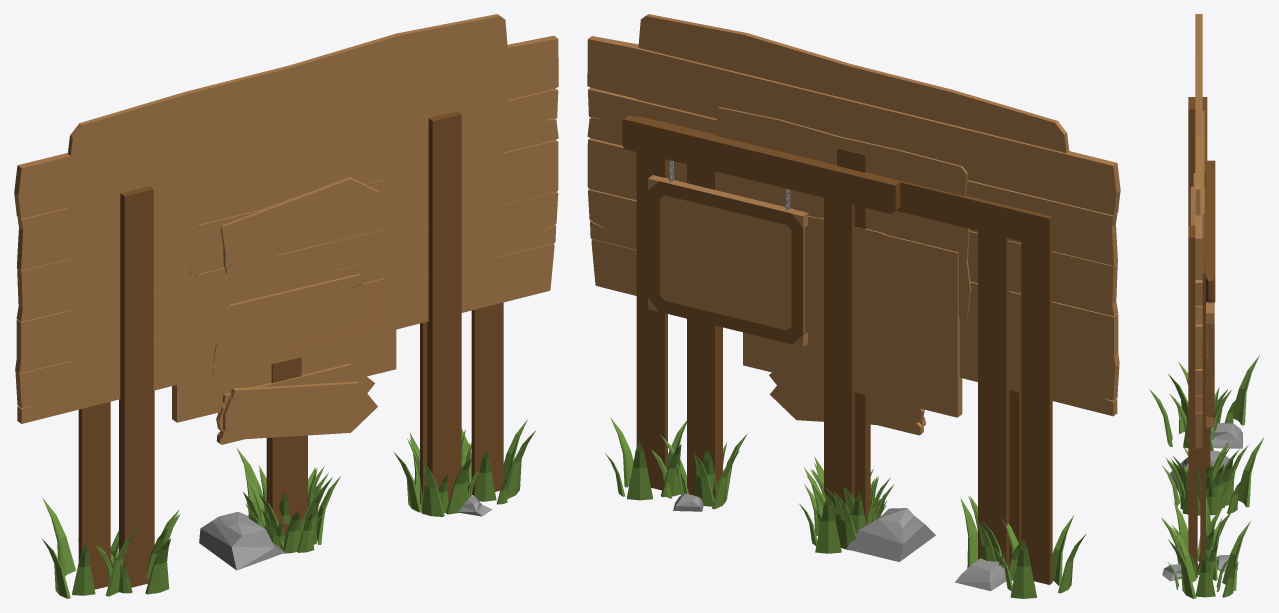
Rendered from signs.glb.
3 renders of one model, left to right at view 1: azimuth 30°, elevation 25°; view 2: azimuth 150°, elevation 25°; view 3: azimuth 270°, elevation 25°, orthographic. The views are drawn at different scales.
Parts seen in each view (by area): view 1: Sign_06_mesh0, Sign_02_mesh0, Sign_01_mesh0, Sign_07_mesh0, Sign_05_mesh0, Sign_08_mesh0, Sign_13_mesh0, Sign_04_mesh0, Sign_10_mesh0, Sign_12_mesh0, Sign_03_mesh0; view 2: Sign_06_mesh0, Sign_07_mesh0, Sign_12_mesh0, Sign_04_mesh0, Sign_03_mesh0, Sign_09_mesh0, Sign_02_mesh0, Sign_13_mesh0, Sign_11_mesh0, Sign_08_mesh0, Sign_01_mesh0; view 3: Sign_06_mesh0, Sign_04_mesh0, Sign_07_mesh0, Sign_03_mesh0, Sign_02_mesh0, Sign_12_mesh0, Sign_09_mesh0, Sign_11_mesh0, Sign_01_mesh0, Sign_05_mesh0, Sign_13_mesh0, Sign_08_mesh0 (+1 smaller).
Part boxes in pixels (left/top/right/bottom): Sign_06_mesh0: left=14, top=35, right=558, bottom=598; Sign_02_mesh0: left=97, top=111, right=478, bottom=592; Sign_01_mesh0: left=204, top=177, right=379, bottom=546; Sign_07_mesh0: left=68, top=14, right=508, bottom=580; Sign_05_mesh0: left=173, top=242, right=339, bottom=552; Sign_08_mesh0: left=189, top=179, right=388, bottom=541; Sign_13_mesh0: left=210, top=209, right=375, bottom=549; Sign_04_mesh0: left=94, top=193, right=478, bottom=594; Sign_10_mesh0: left=173, top=210, right=382, bottom=546; Sign_12_mesh0: left=199, top=447, right=332, bottom=570; Sign_03_mesh0: left=249, top=357, right=315, bottom=550; Sign_06_mesh0: left=587, top=36, right=1120, bottom=598; Sign_07_mesh0: left=637, top=14, right=1069, bottom=580; Sign_12_mesh0: left=715, top=107, right=971, bottom=561; Sign_04_mesh0: left=652, top=121, right=1052, bottom=563; Sign_03_mesh0: left=622, top=116, right=900, bottom=517; Sign_09_mesh0: left=626, top=115, right=900, bottom=517; Sign_02_mesh0: left=651, top=215, right=1052, bottom=561; Sign_13_mesh0: left=769, top=372, right=924, bottom=535; Sign_11_mesh0: left=648, top=160, right=885, bottom=507; Sign_08_mesh0: left=811, top=205, right=894, bottom=550; Sign_01_mesh0: left=770, top=386, right=926, bottom=522; Sign_06_mesh0: left=1162, top=14, right=1259, bottom=598; Sign_04_mesh0: left=1150, top=97, right=1227, bottom=574; Sign_07_mesh0: left=1169, top=15, right=1232, bottom=575; Sign_03_mesh0: left=1169, top=160, right=1230, bottom=479; Sign_02_mesh0: left=1150, top=97, right=1227, bottom=579; Sign_12_mesh0: left=1170, top=110, right=1263, bottom=513; Sign_09_mesh0: left=1167, top=160, right=1228, bottom=473; Sign_11_mesh0: left=1167, top=303, right=1228, bottom=501; Sign_01_mesh0: left=1165, top=186, right=1235, bottom=504; Sign_05_mesh0: left=1163, top=448, right=1238, bottom=515; Sign_13_mesh0: left=1171, top=178, right=1229, bottom=515; Sign_08_mesh0: left=1171, top=173, right=1248, bottom=505.
Bounding box in the file's own units: 2.99 × 2.56 × 0.6468.
Materials: 1 (1 with a texture image).
